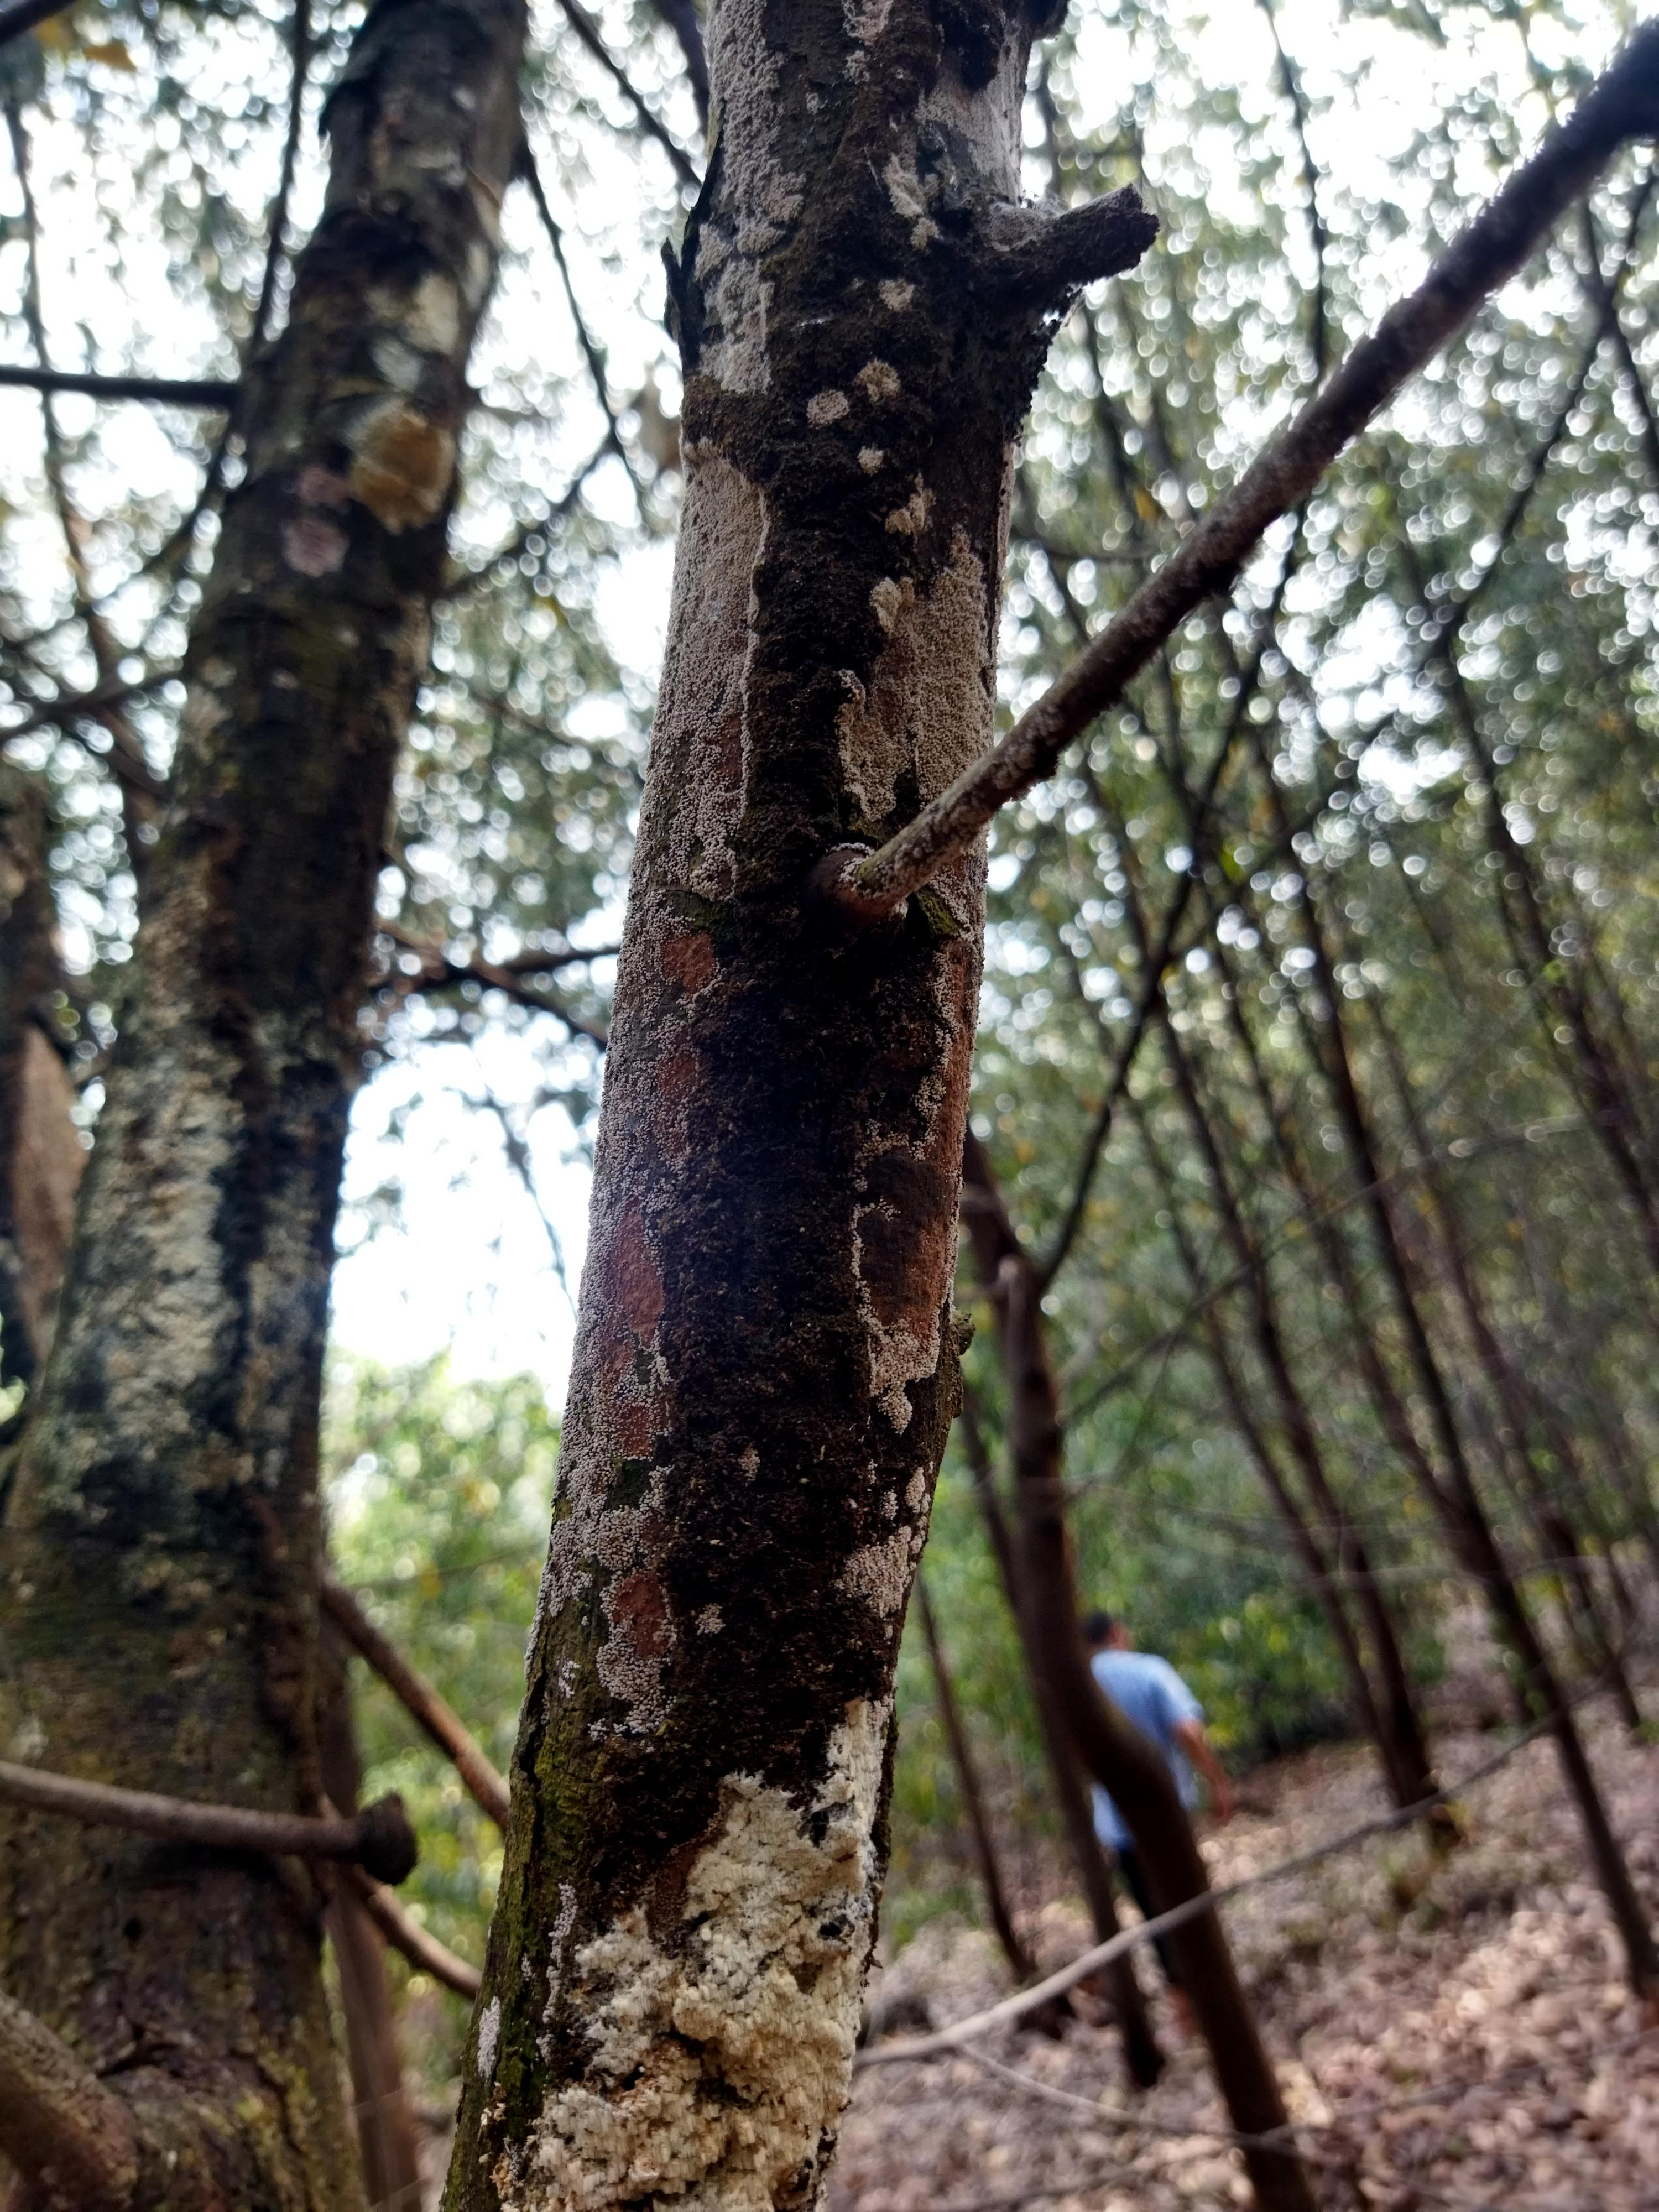Termite - Nest: (697, 0, 971, 1890)
